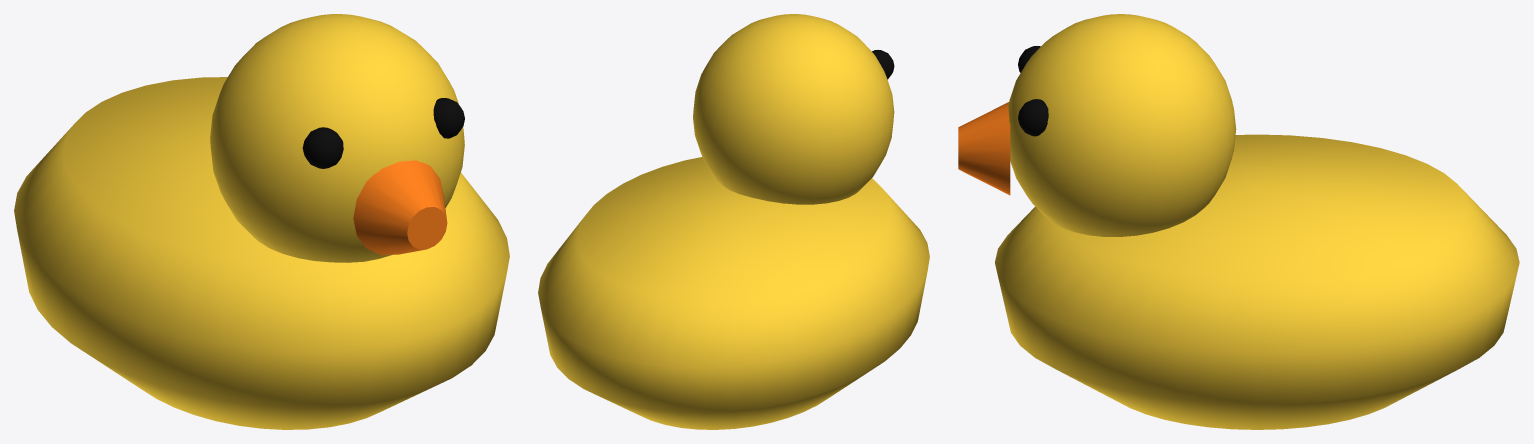
The model's file is duck.glb.
3 renders of one model, left to right at view 1: azimuth 30°, elevation 25°; view 2: azimuth 150°, elevation 25°; view 3: azimuth 270°, elevation 25°, orthographic. The views are drawn at different scales.
Parts seen in each view (by area): view 1: Duck; view 2: Duck; view 3: Duck.
Boxes of the visible parts, x1,y1,x2,y2 form: Duck: [14, 14, 509, 429]; Duck: [538, 14, 929, 429]; Duck: [958, 14, 1519, 429].
Size of the model in its own units: 0.4 by 0.38 by 0.5347.
